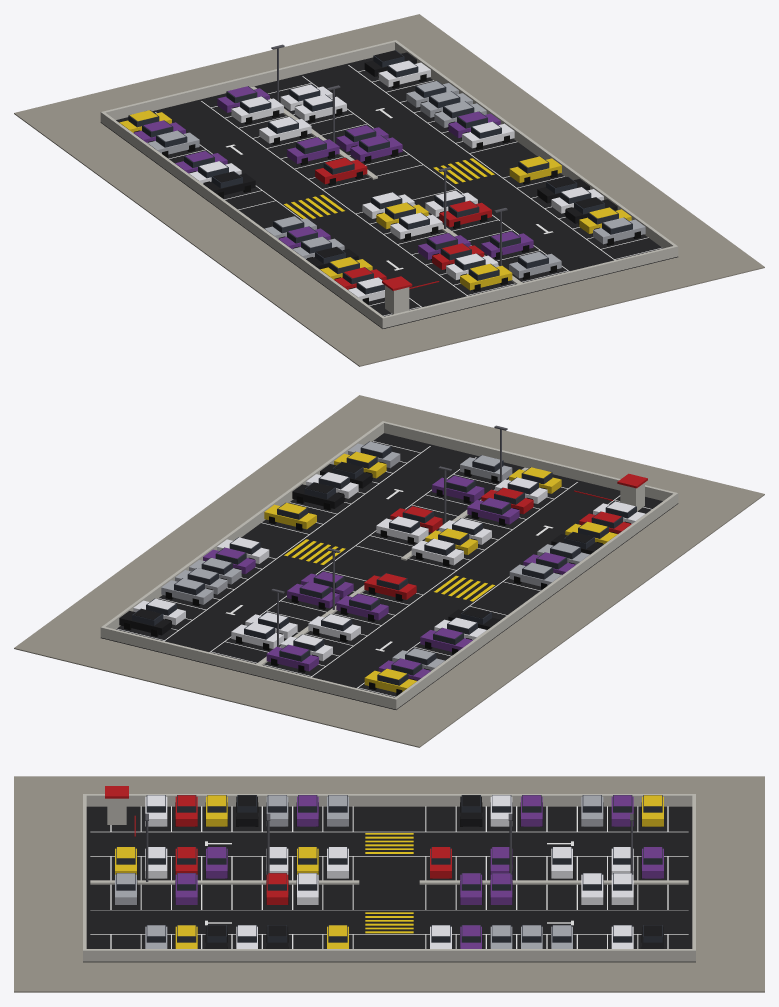
File: parking_lot.dae
The picture shows the model from 3 angles, top to bottom: view 1: azimuth 30°, elevation 25°; view 2: azimuth 150°, elevation 25°; view 3: azimuth 270°, elevation 25°; orthographic projection. The views are drawn at different scales.
Parts seen in each view (by area): view 1: n1, n0, n2, n5, n11, n7, n4, n9, n3, n10, n8, n6 (+2 smaller); view 2: n1, n0, n2, n5, n11, n7, n4, n9, n3, n8, n10, n6 (+2 smaller); view 3: n1, n0, n2, n5, n11, n7, n3, n4, n9, n10, n8, n13 (+2 smaller).
Boxes of the visible parts, x1,y1,x2,y2 form: n1: [14, 14, 764, 366]; n0: [100, 57, 677, 328]; n2: [100, 40, 678, 328]; n5: [128, 50, 632, 294]; n11: [189, 60, 603, 301]; n7: [133, 86, 533, 259]; n4: [147, 81, 645, 278]; n9: [119, 110, 631, 290]; n3: [155, 65, 661, 315]; n10: [315, 157, 491, 290]; n8: [203, 50, 617, 269]; n6: [134, 70, 640, 304]; n1: [14, 395, 764, 747]; n0: [101, 433, 678, 709]; n2: [100, 421, 678, 709]; n5: [132, 441, 636, 685]; n11: [133, 472, 645, 660]; n7: [203, 475, 575, 680]; n4: [161, 441, 589, 670]; n9: [264, 451, 617, 692]; n3: [117, 441, 651, 696]; n8: [119, 462, 603, 635]; n10: [364, 473, 647, 599]; n6: [124, 461, 630, 695]; n1: [14, 776, 764, 992]; n0: [83, 806, 695, 962]; n2: [83, 794, 695, 961]; n5: [116, 795, 662, 942]; n11: [145, 795, 633, 948]; n7: [175, 795, 663, 948]; n3: [90, 806, 688, 948]; n4: [115, 795, 603, 948]; n9: [115, 795, 663, 948]; n10: [105, 786, 451, 904]; n8: [206, 795, 663, 948]; n13: [365, 833, 413, 933].
Bounding box in the file's own units: 42 × 62 × 6.22.
